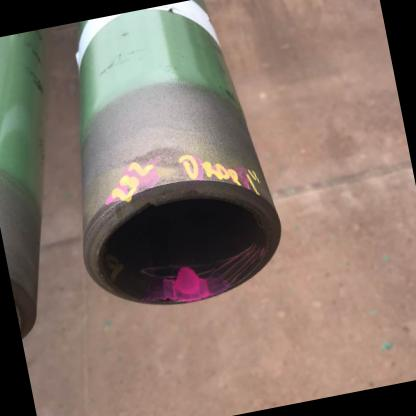Bevel: (127, 193, 167, 215)
